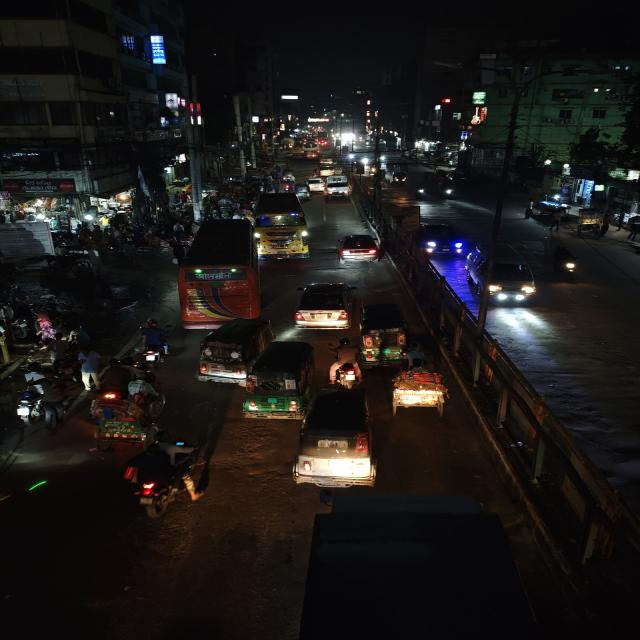bus: (178, 218, 260, 330), (249, 192, 311, 262), (300, 144, 320, 159)
car: (462, 241, 539, 308), (290, 278, 358, 332), (416, 218, 466, 258), (336, 231, 382, 267), (319, 165, 336, 177)
cng: (293, 386, 380, 492), (243, 337, 316, 418), (194, 318, 273, 387), (358, 299, 412, 365), (523, 198, 571, 222), (390, 168, 409, 186), (294, 185, 312, 200), (307, 177, 324, 191), (283, 170, 296, 182)
motorcycle: (121, 438, 204, 518), (133, 320, 172, 365), (10, 376, 47, 420), (327, 351, 362, 388), (550, 244, 581, 282), (414, 185, 428, 201), (280, 182, 294, 194)
pedestrian: (33, 370, 70, 429), (98, 356, 132, 399), (74, 346, 102, 392)
pickup_van: (322, 172, 353, 199)
rickshaw: (386, 357, 454, 417), (88, 398, 157, 450), (215, 198, 237, 216), (437, 181, 457, 200)
